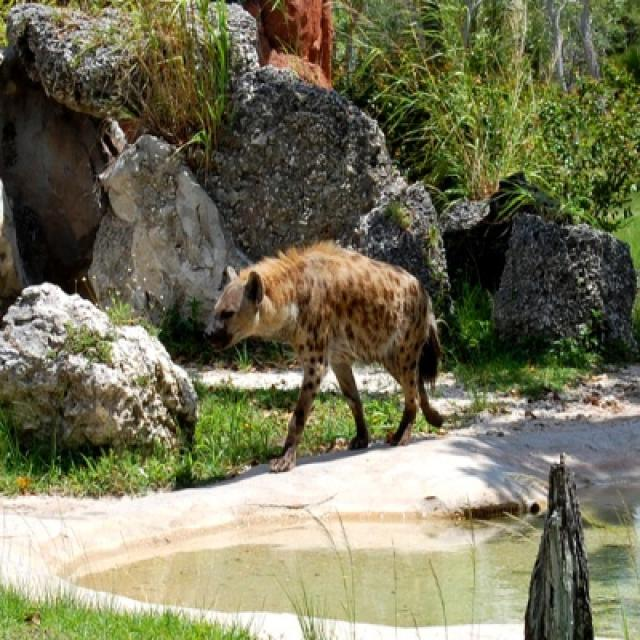hyena: (205, 242, 445, 474)
